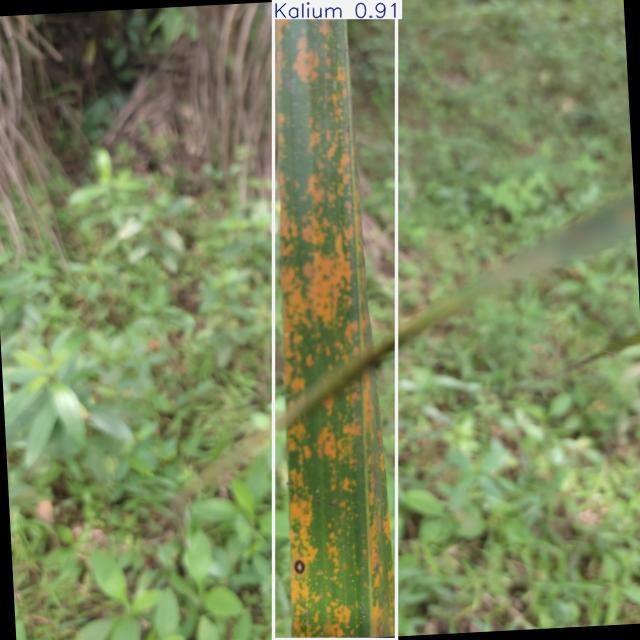Kalium: (273, 0, 396, 639)
